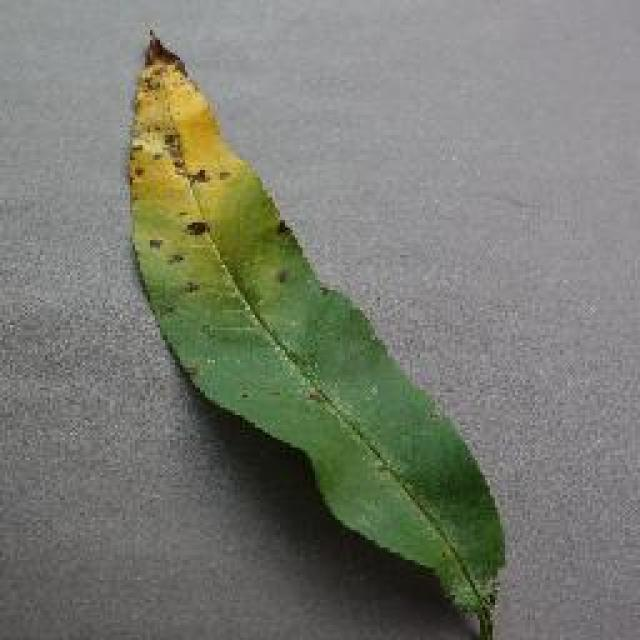Peach_Bacterial_Spot: (98, 35, 402, 390)
